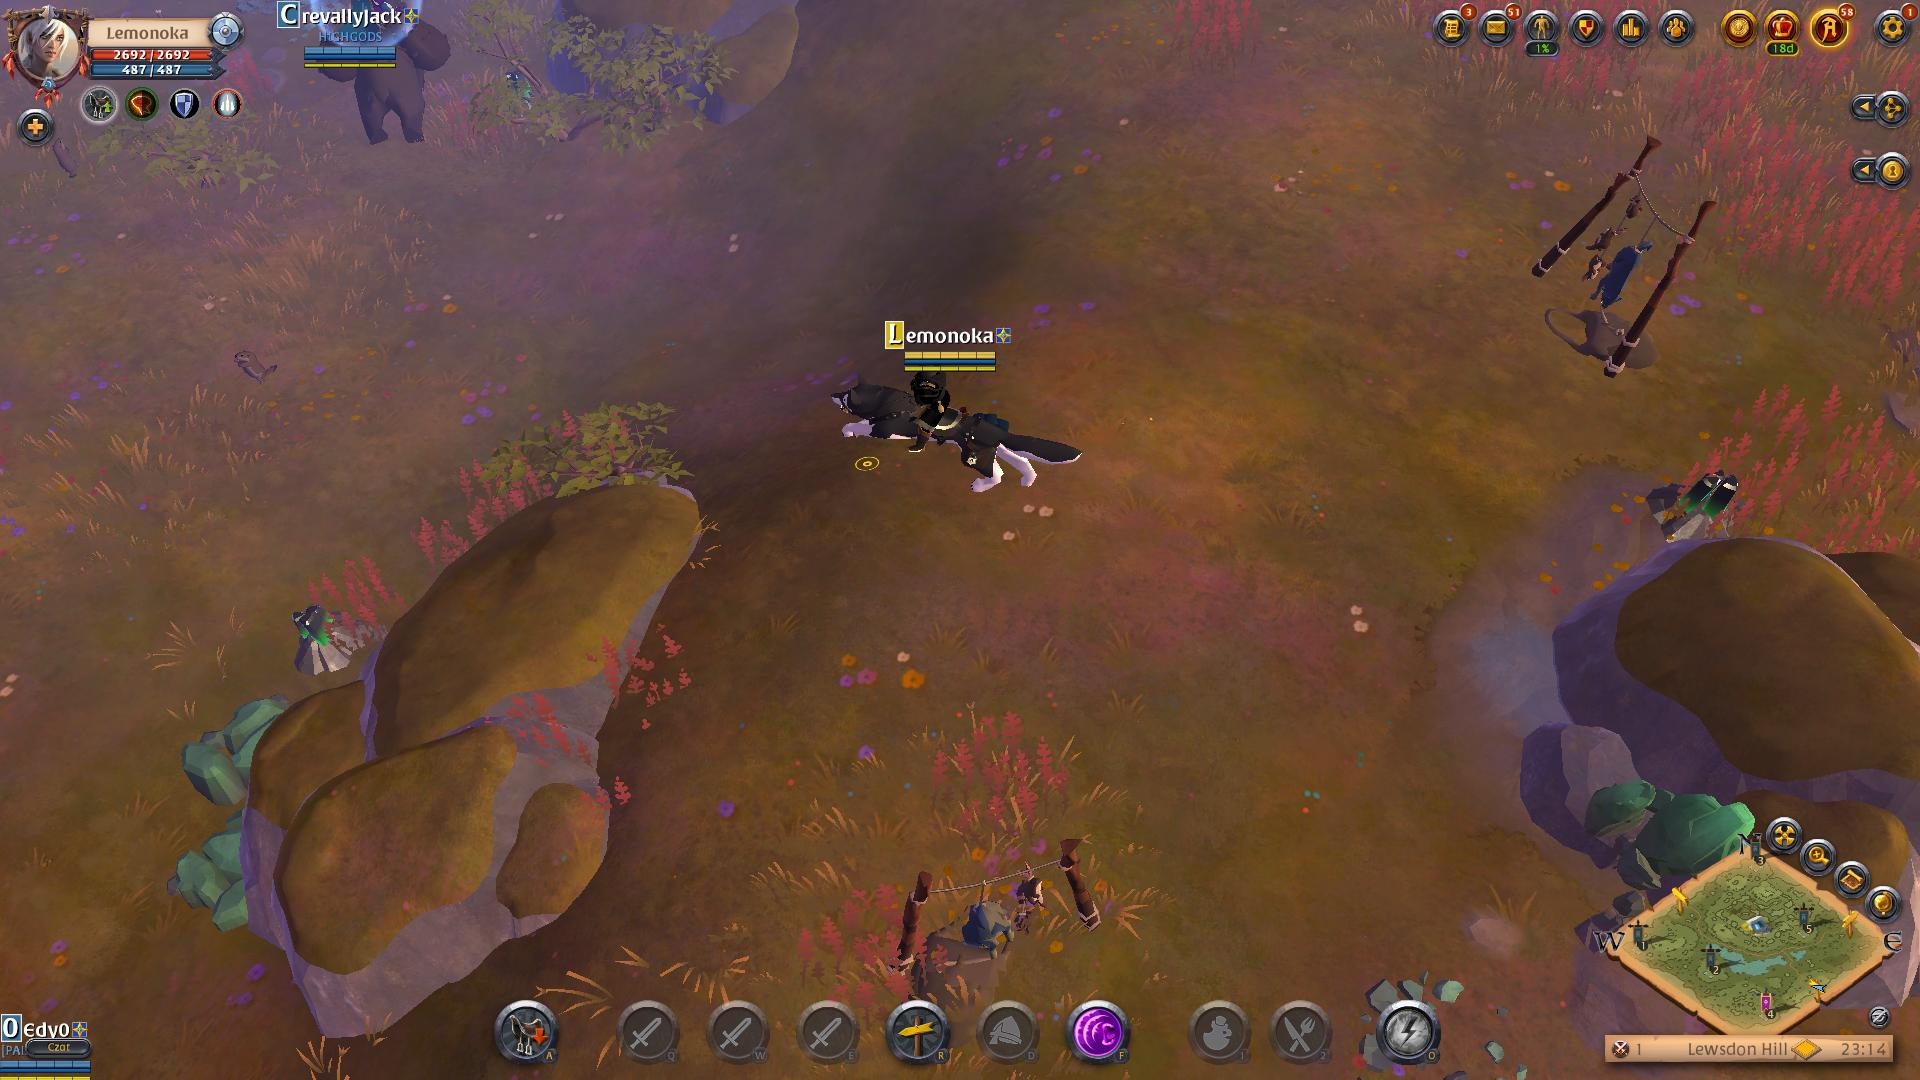ore tier 3: (1647, 469, 1747, 549), (284, 600, 367, 682)
